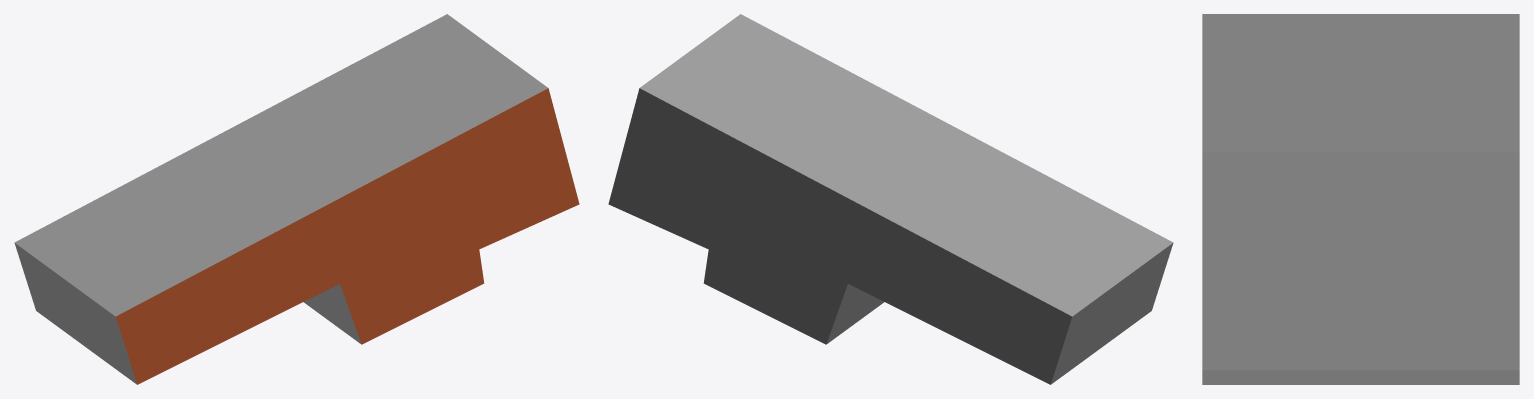
The model's file is construction_1444_assumed_A_Casa_h6m.obj.
3 renders of one model, left to right at view 1: azimuth 30°, elevation 25°; view 2: azimuth 150°, elevation 25°; view 3: azimuth 270°, elevation 25°, orthographic. The views are drawn at different scales.
Visible parts, largest first — view 1: construction_1444_assumed_A_Casa; view 2: construction_1444_assumed_A_Casa; view 3: construction_1444_assumed_A_Casa.
Part boxes in pixels (left/top/right/bottom): construction_1444_assumed_A_Casa: left=14, top=14, right=579, bottom=384; construction_1444_assumed_A_Casa: left=608, top=14, right=1173, bottom=384; construction_1444_assumed_A_Casa: left=1202, top=14, right=1519, bottom=384.
Bounding box in the file's own units: 15.88 × 6.9 × 6.
